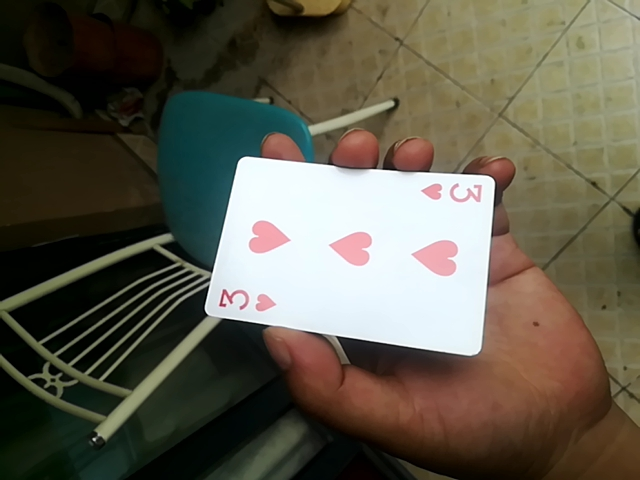hx 3: (199, 157, 498, 355)
